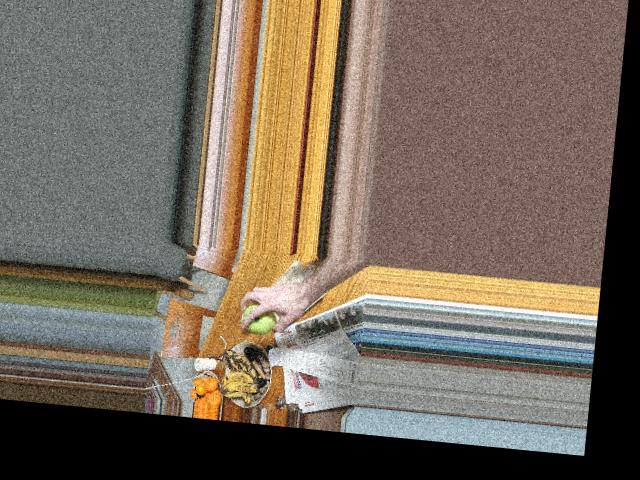apple: (243, 302, 278, 334)
